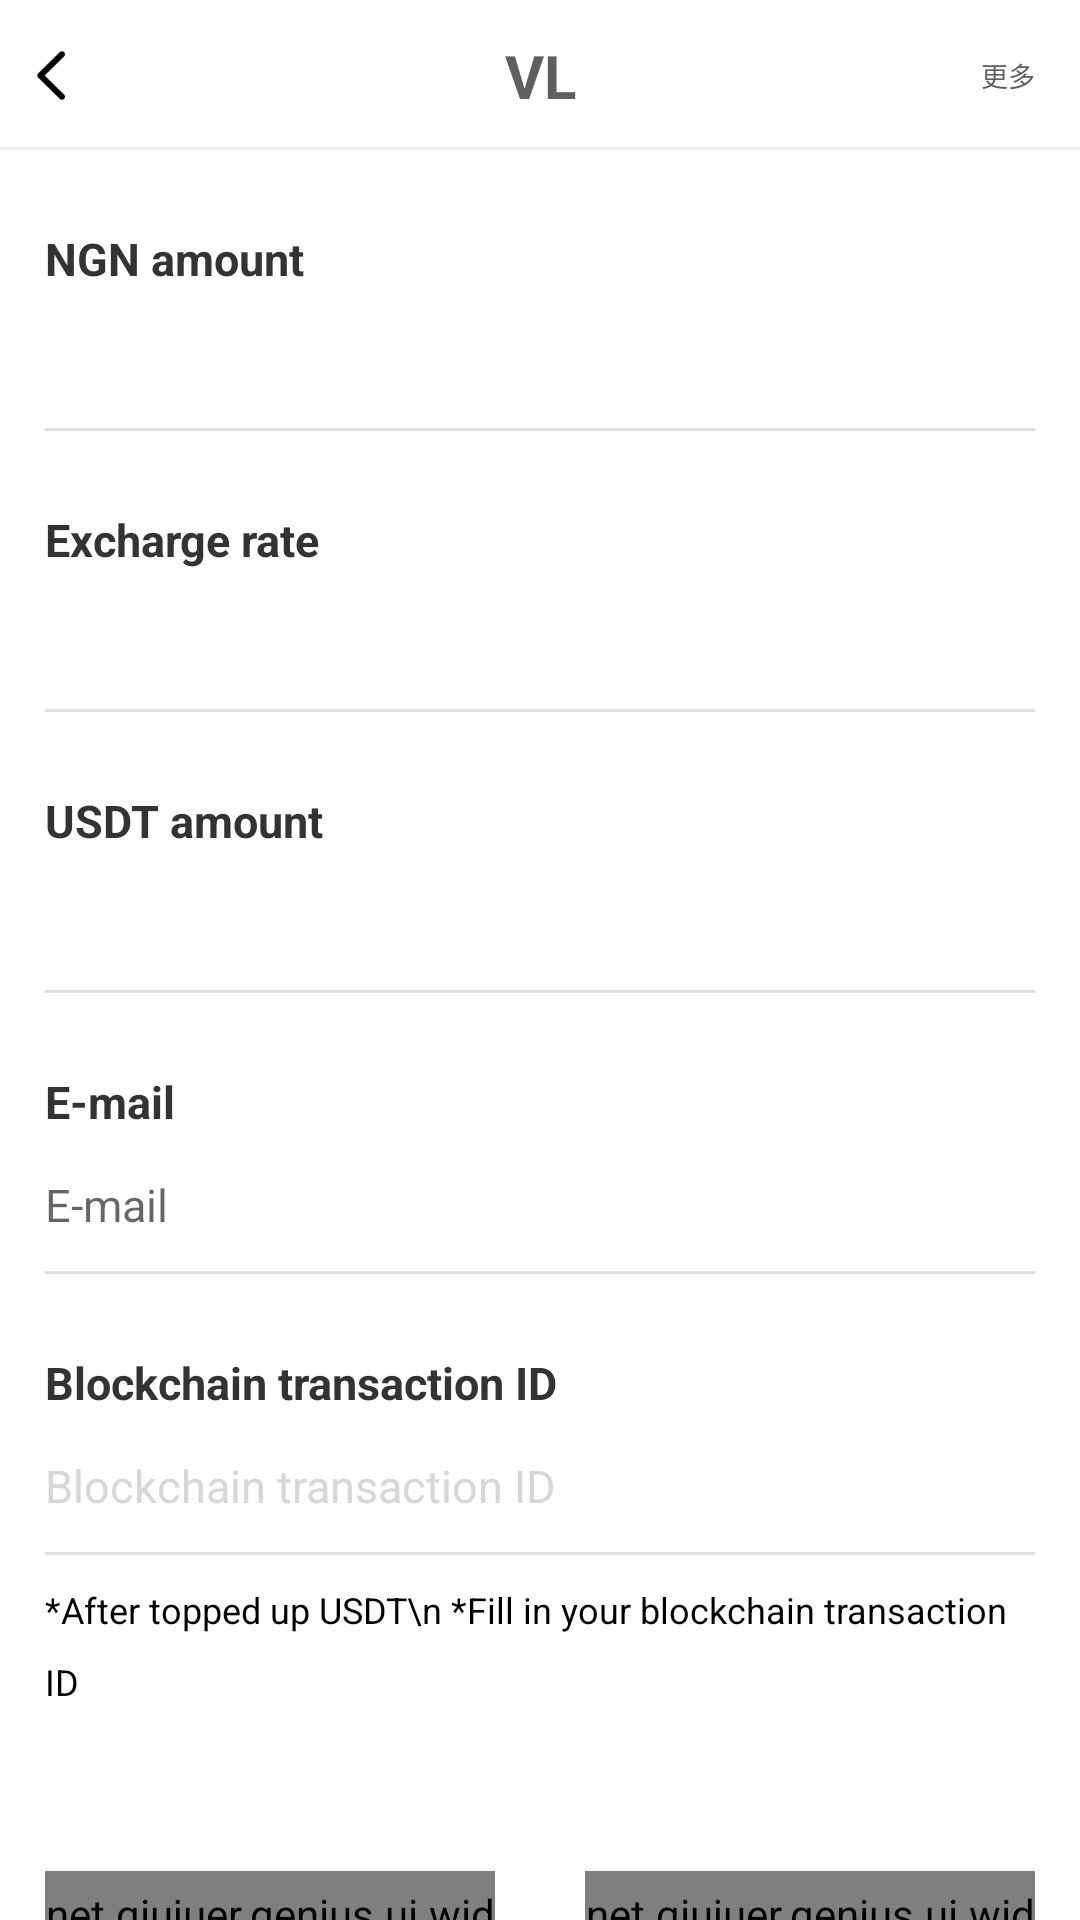

Named icons in this screenshot (1080 × 1920) and their centers, [x,y]:
back: [51,75]
